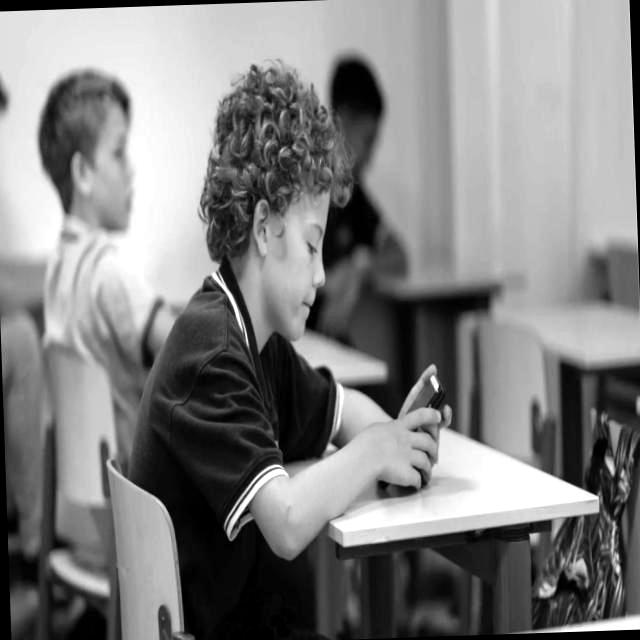phone: (373, 372, 448, 490), (404, 372, 446, 431)
